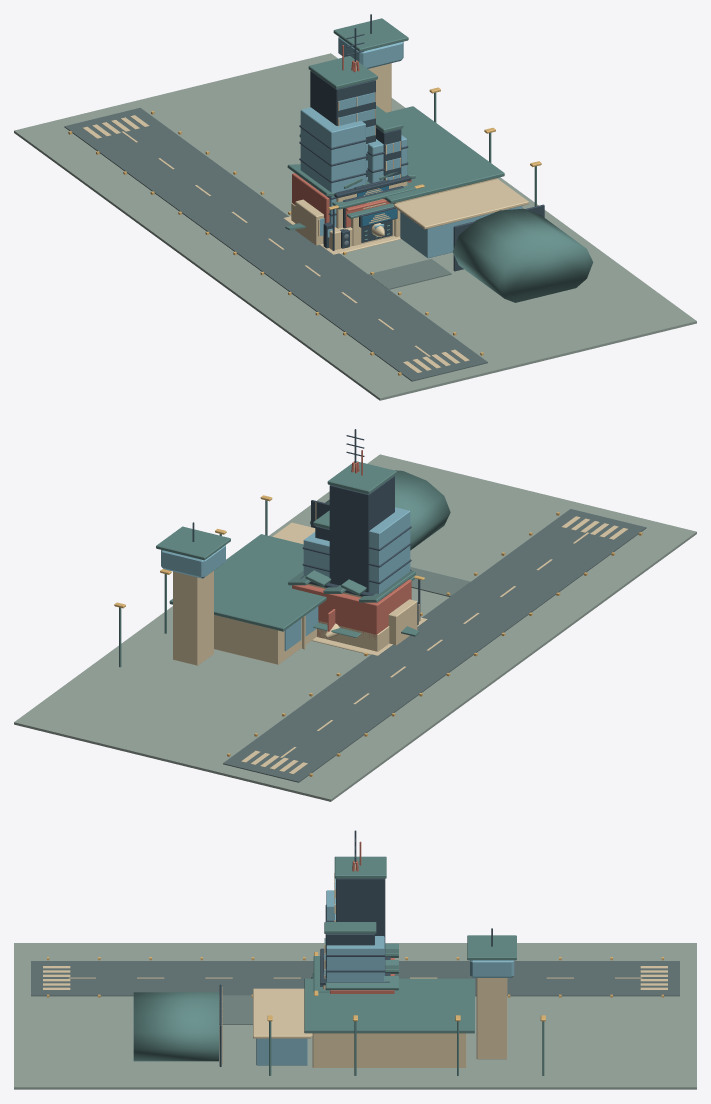
The model's file is future.glb.
The picture shows the model from 3 angles, top to bottom: view 1: azimuth 30°, elevation 25°; view 2: azimuth 150°, elevation 25°; view 3: azimuth 270°, elevation 25°; orthographic projection. The views are drawn at different scales.
Parts seen in each view (by area): view 1: Regional airfield apron, North south runway, Barrel hangar shell, Cantilever terminal roof, Glass campus tower, Lounge roof, Stepped office tower, Expanded passenger lounge, Control tower roof, Taxiway, Tower crown, Panoramic control room (+5 smaller); view 2: Regional airfield apron, North south runway, Cantilever terminal roof, Stepped office tower, Control tower shaft, Auditorium, Terminal concourse, Glass campus tower, Barrel hangar shell, Control tower roof, Tower crown, Panoramic control room (+4 smaller); view 3: Regional airfield apron, North south runway, Cantilever terminal roof, Barrel hangar shell, Terminal concourse, Lounge roof, Control tower shaft, Stepped office tower, Glass campus tower.001, Expanded passenger lounge, Control tower roof, Tower crown (+5 smaller).
Part boxes in pixels (x1,y1,x2,y2): Regional airfield apron: [14, 53, 696, 400]; North south runway: [64, 107, 487, 381]; Barrel hangar shell: [452, 208, 593, 302]; Cantilever terminal roof: [299, 106, 504, 203]; Glass campus tower: [300, 107, 365, 227]; Lounge roof: [394, 179, 528, 229]; Stepped office tower: [310, 71, 375, 177]; Expanded passenger lounge: [400, 206, 522, 258]; Control tower roof: [333, 18, 408, 51]; Taxiway: [368, 259, 451, 289]; Tower crown: [308, 56, 377, 89]; Panoramic control room: [338, 37, 403, 68]; Regional airfield apron: [14, 454, 696, 801]; North south runway: [223, 509, 646, 782]; Cantilever terminal roof: [169, 534, 326, 631]; Stepped office tower: [329, 476, 394, 592]; Control tower shaft: [173, 571, 213, 665]; Auditorium: [292, 579, 411, 639]; Terminal concourse: [214, 615, 316, 664]; Glass campus tower: [369, 507, 410, 593]; Barrel hangar shell: [310, 470, 450, 550]; Control tower roof: [156, 526, 230, 560]; Tower crown: [327, 461, 396, 494]; Panoramic control room: [161, 545, 225, 578]; Regional airfield apron: [14, 943, 696, 1089]; North south runway: [31, 961, 679, 996]; Cantilever terminal roof: [304, 978, 474, 1033]; Barrel hangar shell: [133, 992, 218, 1061]; Terminal concourse: [312, 1033, 466, 1067]; Lounge roof: [253, 988, 310, 1038]; Control tower shaft: [476, 978, 507, 1059]; Stepped office tower: [336, 878, 385, 958]; Glass campus tower.001: [326, 936, 384, 981]; Expanded passenger lounge: [256, 1038, 307, 1065]; Control tower roof: [467, 935, 516, 960]; Tower crown: [334, 856, 386, 878].
Bounding box in the file's own units: 20 × 12.4 × 40.
